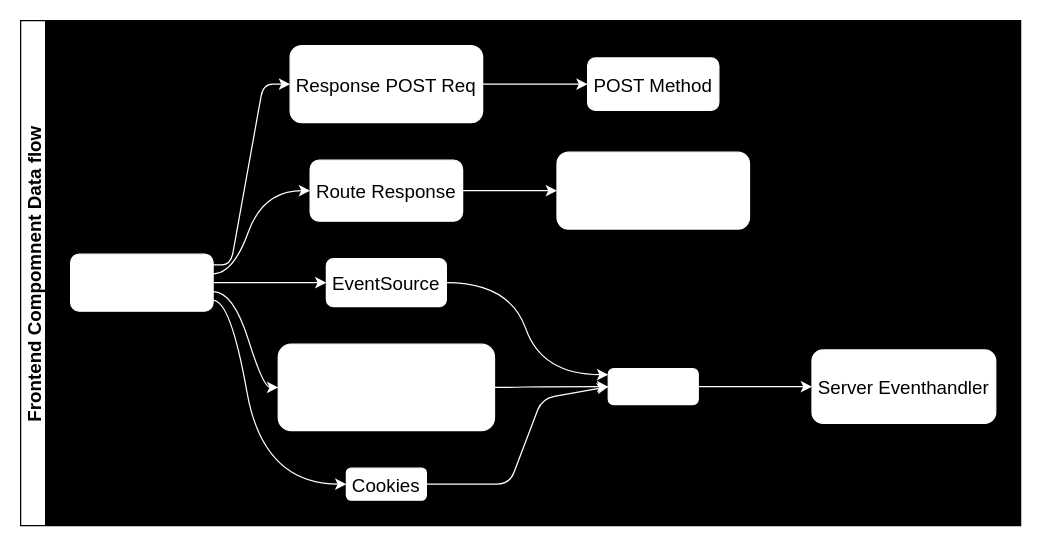
The diagram is 1041 pixels wide and 546 high, and some of its shapes have lost their labels. The shapes that lost their labels are listed below. From the top down, each one's centre as x and y in pixels, then its label:
At (x=653, y=190): "File with GET Method".
At (x=141, y=282): "Backend(Node)".
At (x=385, y=387): "Component Address Set".
At (x=652, y=386): "Socket.io".
